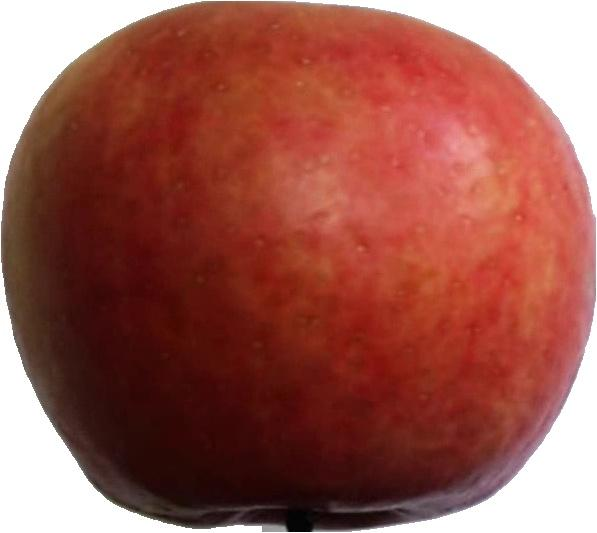fruit: (6, 0, 597, 533)
